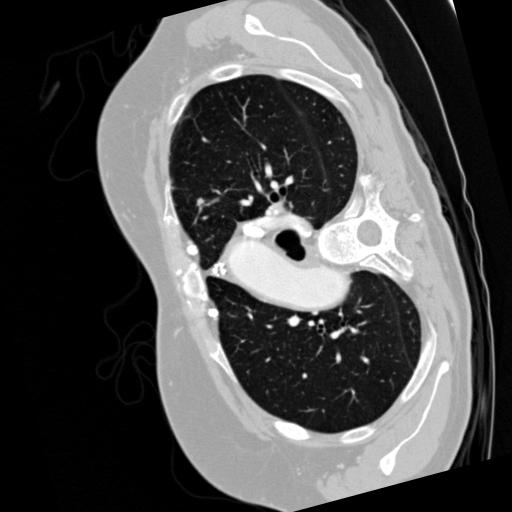nodule: (192, 193, 207, 208)
